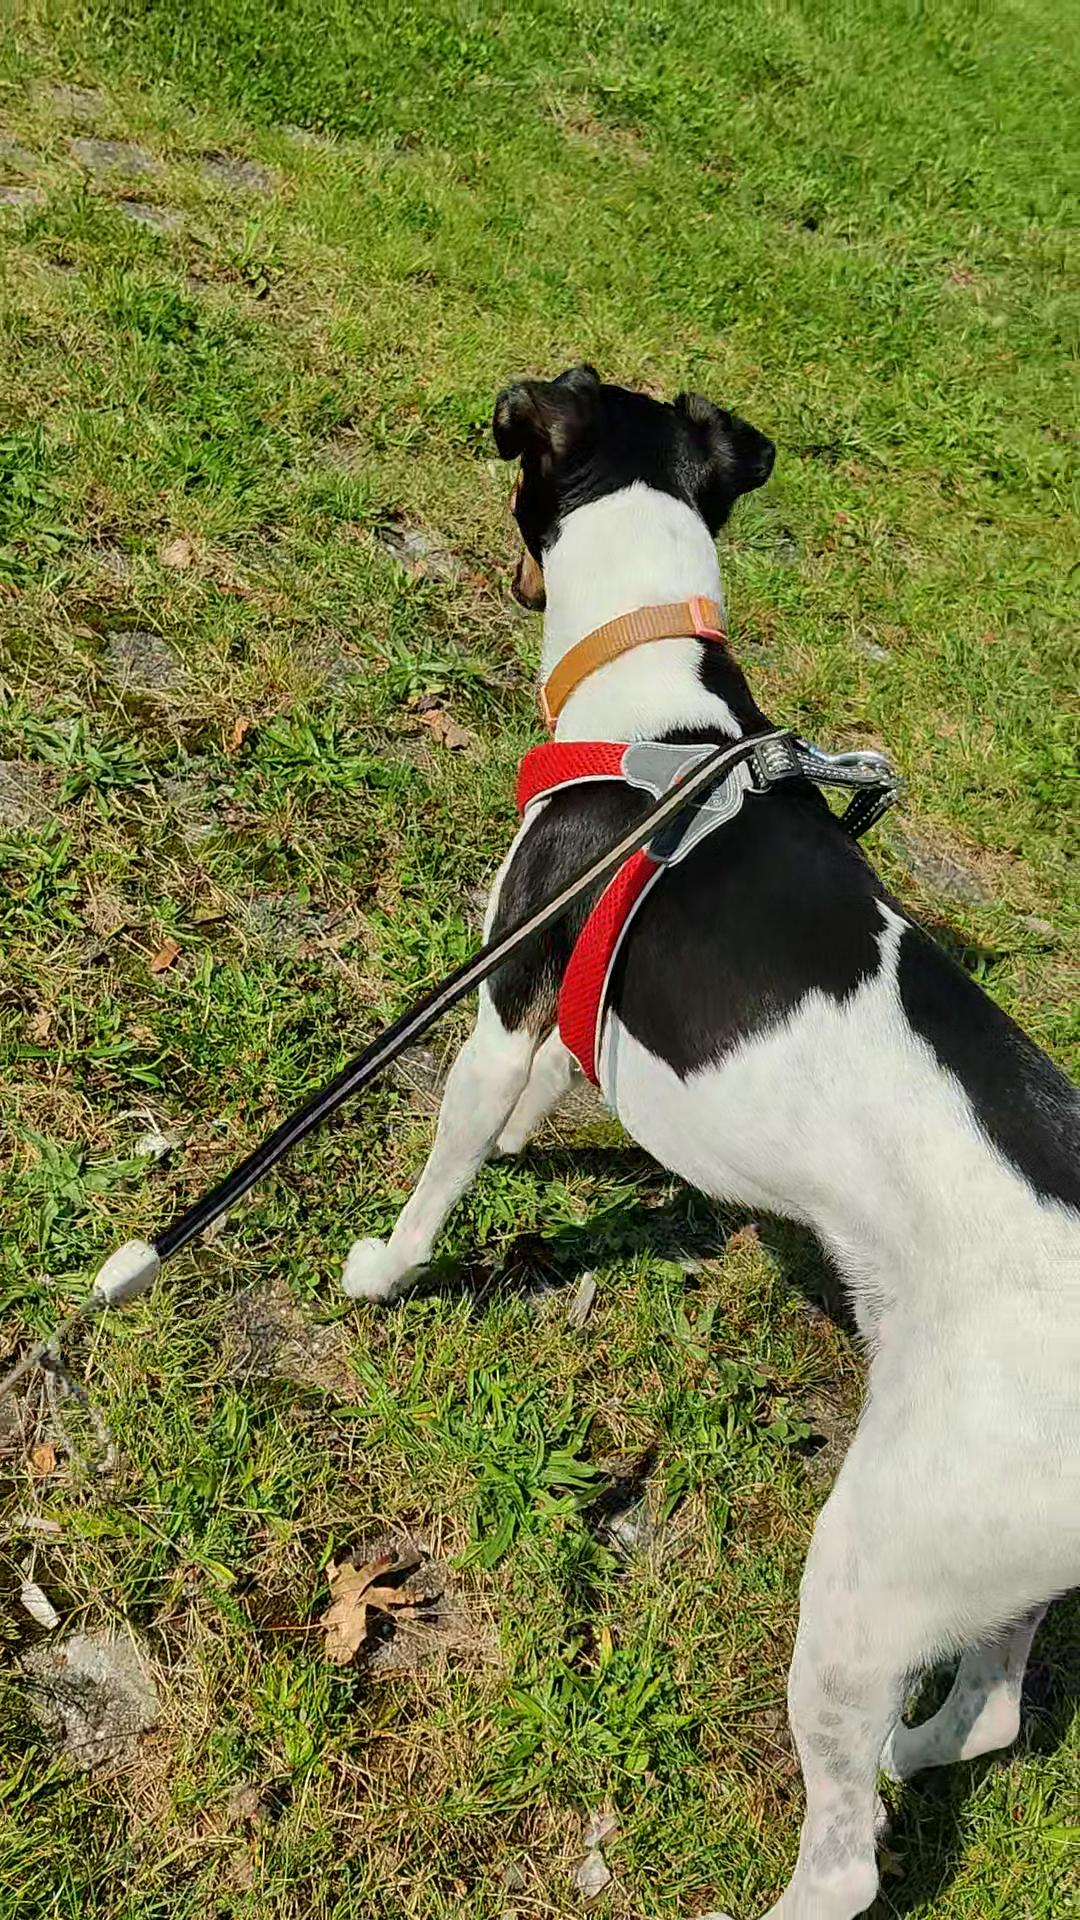Dog: (334, 310, 1079, 1919)
